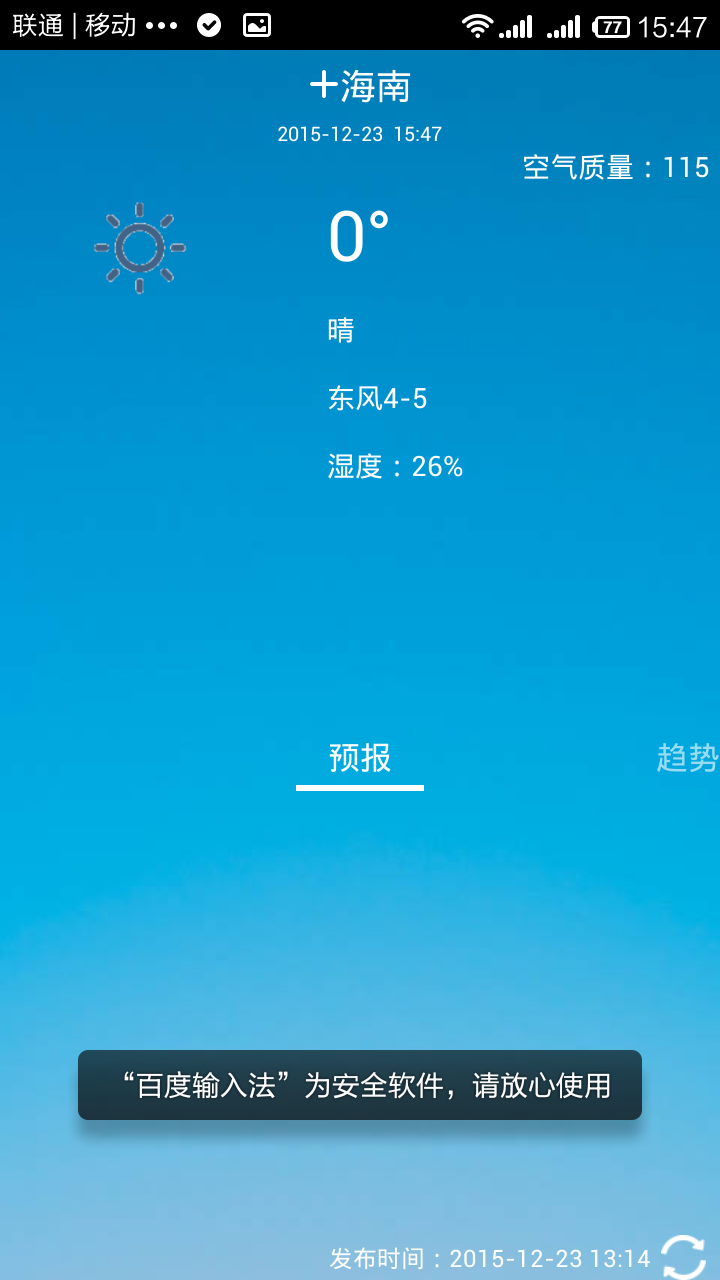alert: (63, 1038, 651, 1135)
imgview: (72, 202, 201, 298)
